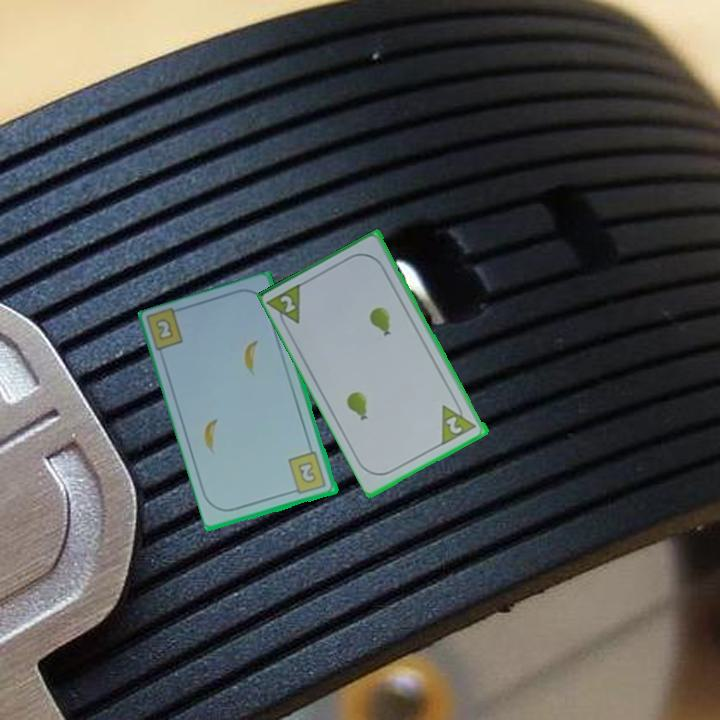2b: (285, 449, 329, 497), (154, 317, 175, 341)
2p: (265, 279, 306, 333), (443, 413, 466, 437)
